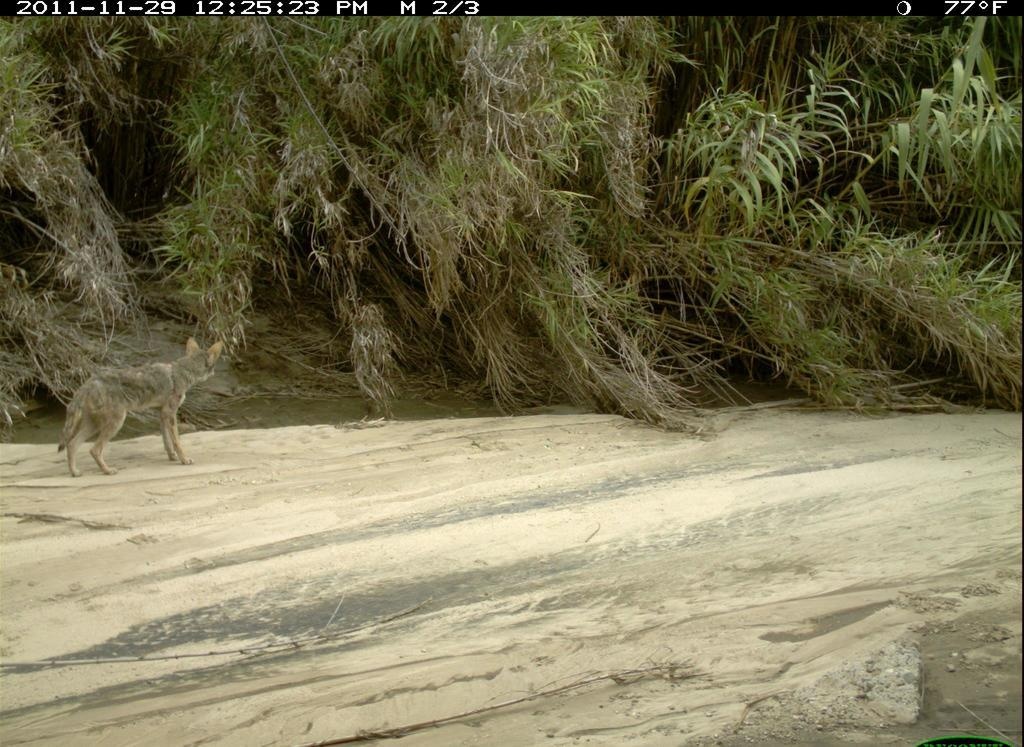coyote: (52, 331, 235, 486)
